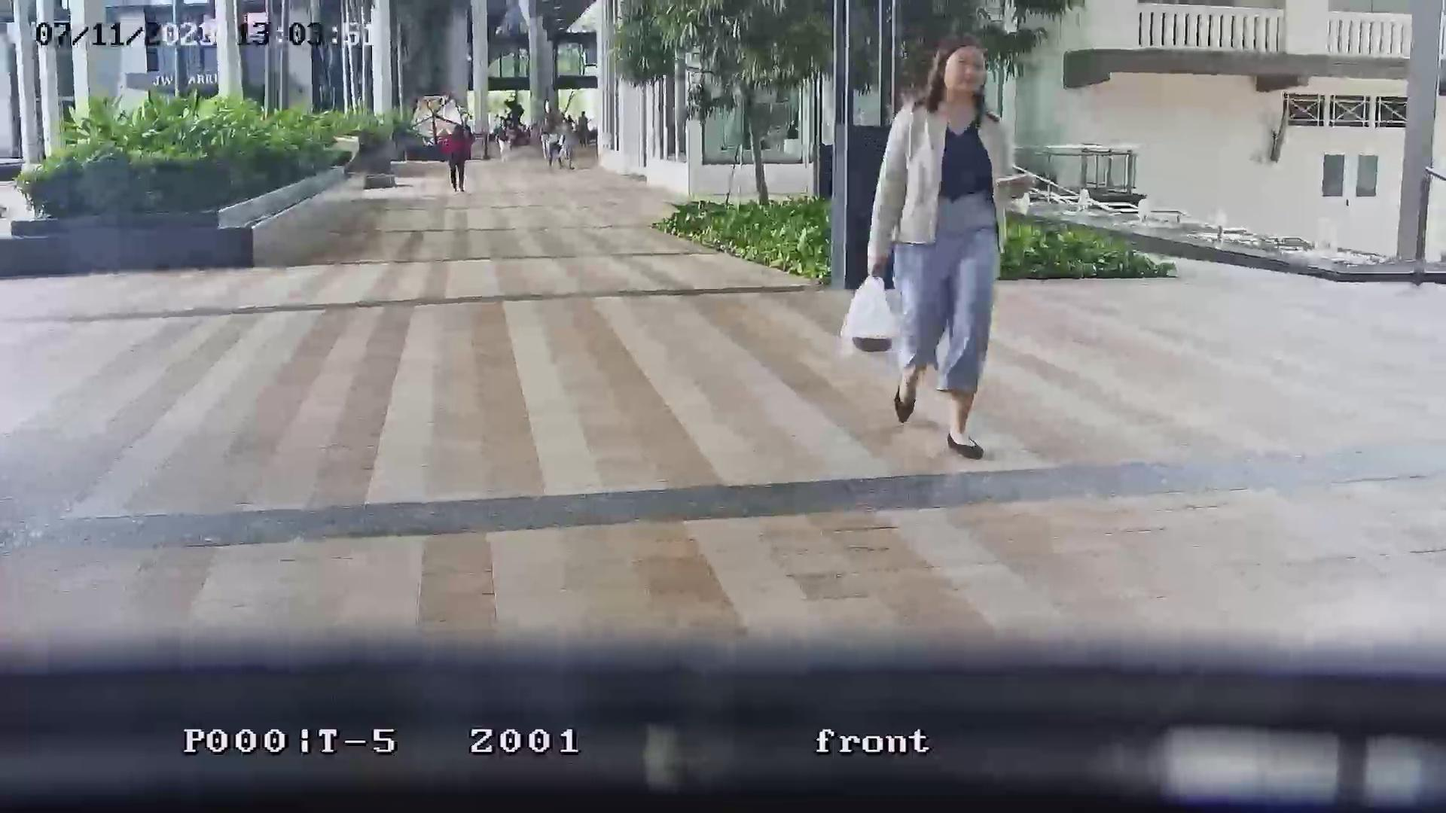person: (867, 34, 1035, 458), (438, 120, 473, 193), (543, 109, 565, 169), (560, 114, 580, 169)
